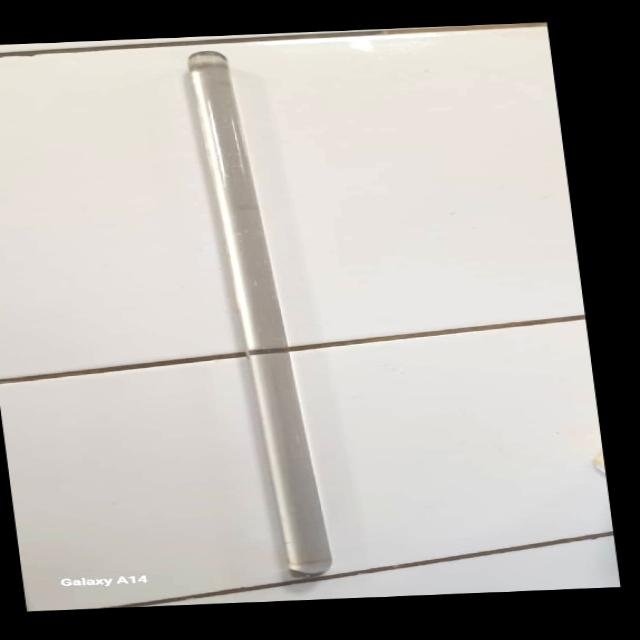Stirrer: (178, 46, 335, 590)
